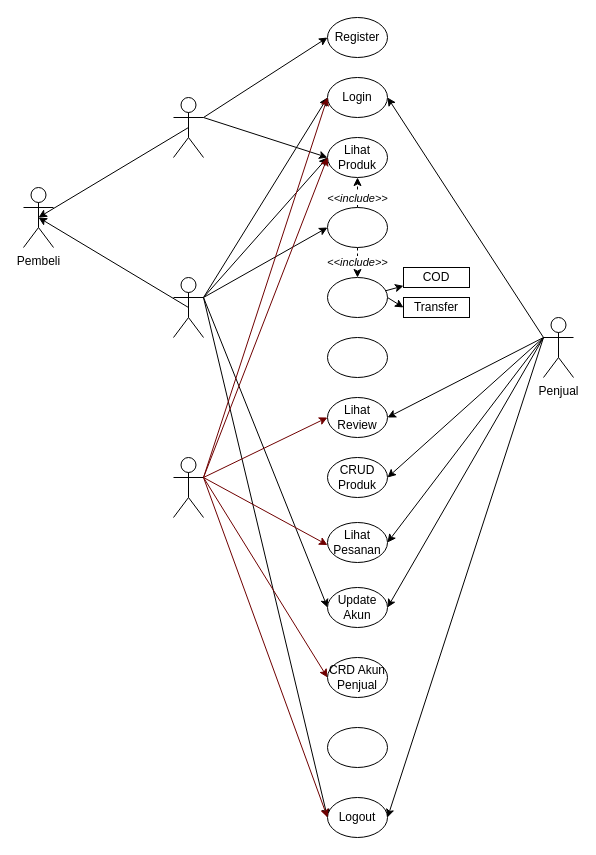
This 596x855 diagram has some shape labels left out. The box of each missing label's shape, as (x1, y1, x2, y2) in pixels:
Admin: (172, 456, 204, 518)
Buat Review: (326, 336, 388, 378)
Checkout: (326, 276, 388, 318)
Pembeli Belum Terdaftar: (172, 96, 204, 158)
Pembeli Terdaftar: (172, 276, 204, 338)
Pembelian: (326, 206, 388, 248)
Read Criminal Report: (326, 726, 388, 768)
